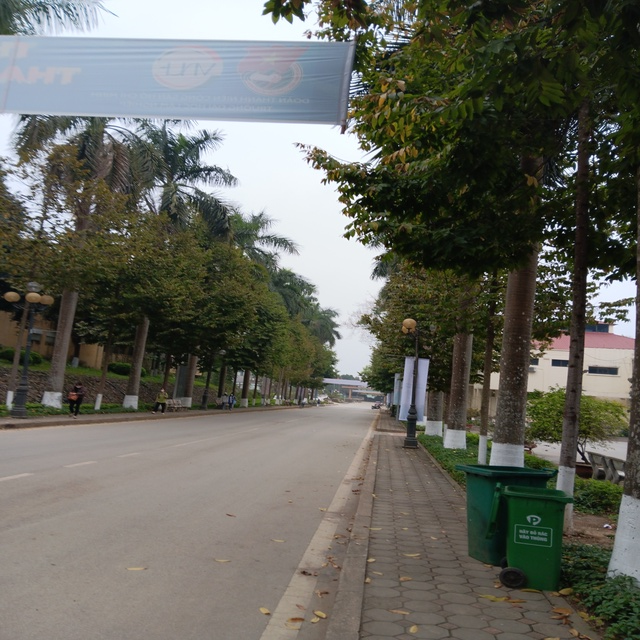thungrac: (457, 454, 550, 566), (494, 477, 577, 590)
